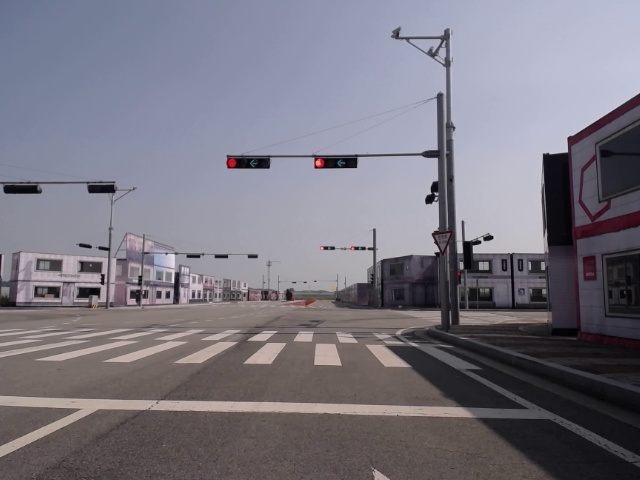left_green_4: (226, 158, 270, 169), (314, 158, 356, 169)
